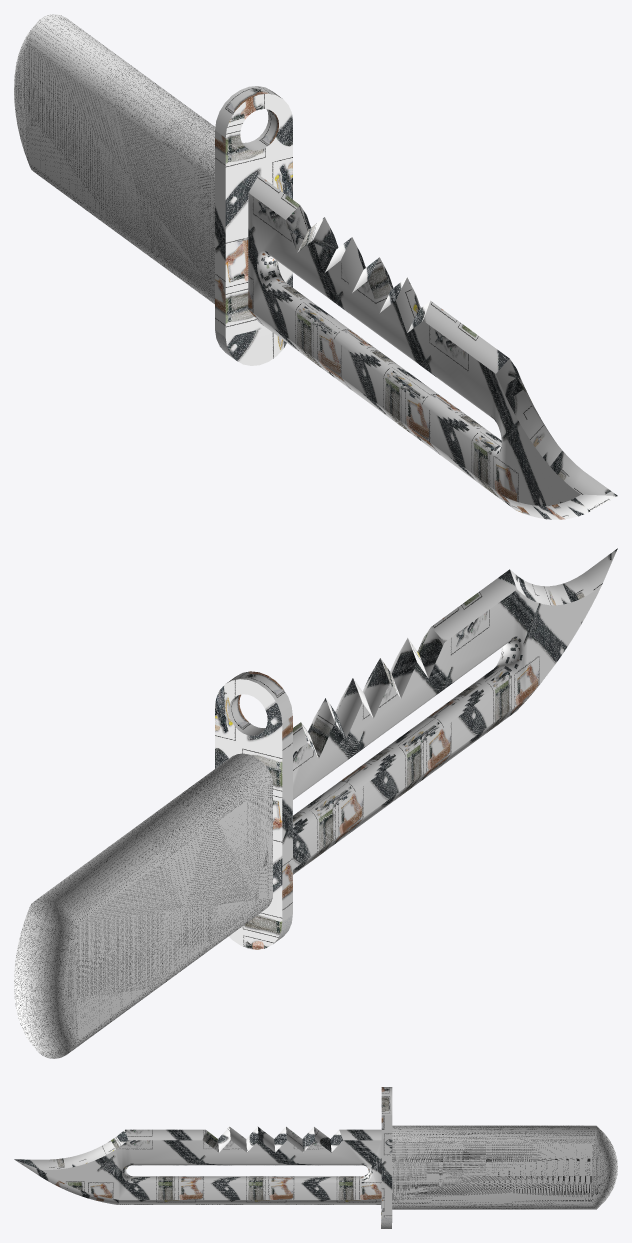
The model's file is model_scale.obj.
3 views of the same model, one above another, from view 1: azimuth 30°, elevation 25°; view 2: azimuth 150°, elevation 25°; view 3: azimuth 270°, elevation 25° (orthographic). The views are drawn at different scales.
Visible parts, largest first — view 1: mesh1_mesh1-geometry; view 2: mesh1_mesh1-geometry; view 3: mesh1_mesh1-geometry.
Part boxes in pixels (bbox=[...]): mesh1_mesh1-geometry: bbox=[14, 14, 617, 519]; mesh1_mesh1-geometry: bbox=[14, 548, 617, 1058]; mesh1_mesh1-geometry: bbox=[14, 1087, 617, 1228].
Size of the model in its own units: 0.0151 by 0.0578 by 0.2291.
